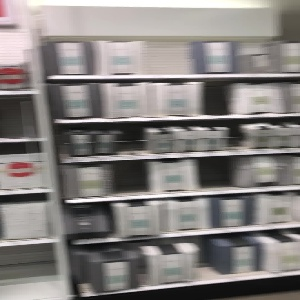void: (1, 240, 56, 297), (145, 41, 193, 76), (197, 156, 238, 189), (110, 163, 148, 194), (206, 81, 230, 118)
